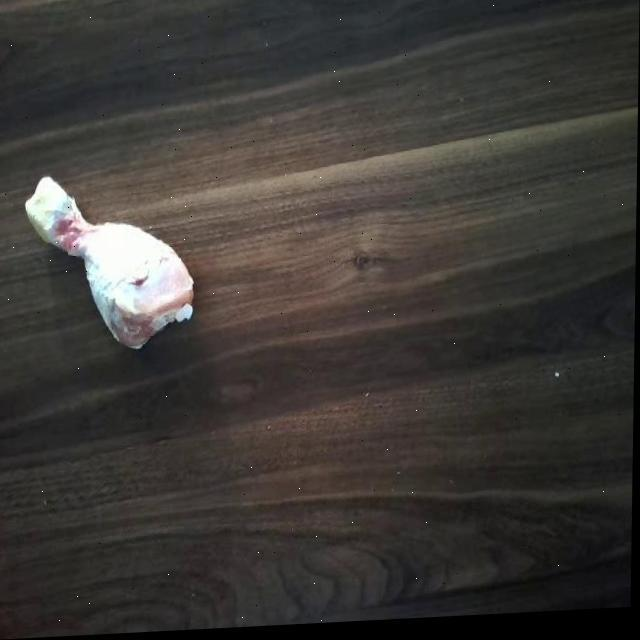leg: (25, 171, 200, 359)
